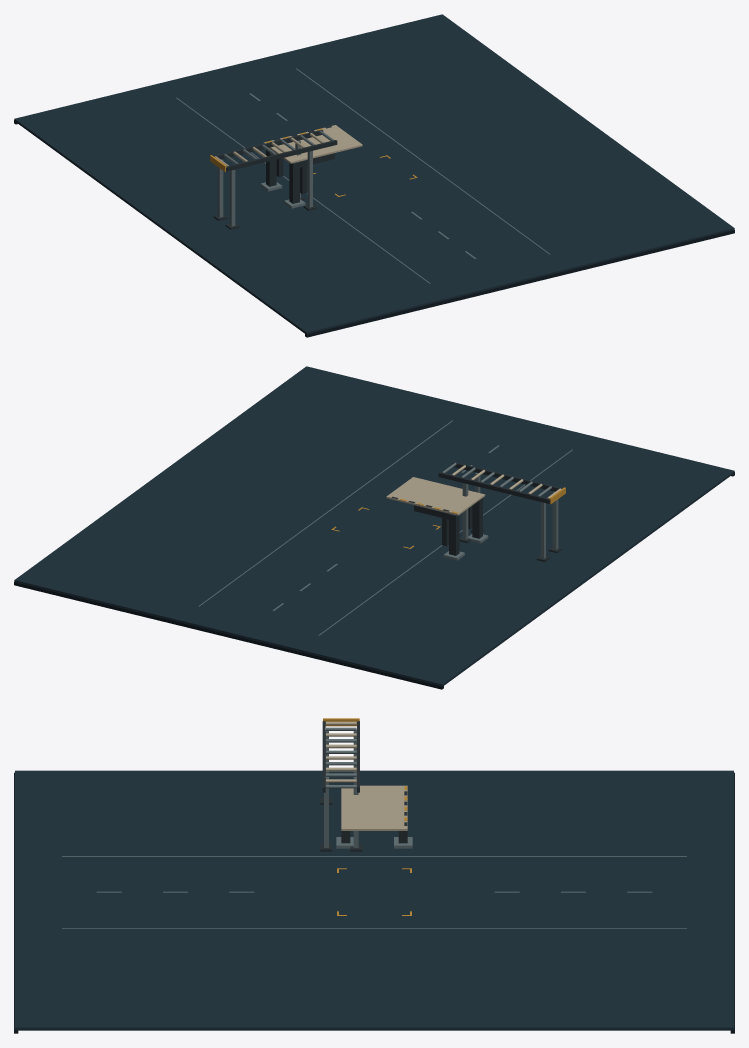
File: station_d0_lod2.glb
3 views of the same model, one above another, from view 1: azimuth 30°, elevation 25°; view 2: azimuth 150°, elevation 25°; view 3: azimuth 270°, elevation 25° (orthographic). The views are drawn at different scales.
Parts seen in each view (by area): view 1: STATION_SURFACE; view 2: STATION_SURFACE; view 3: STATION_SURFACE.
Part boxes in pixels (x1,y1,x2,y2): STATION_SURFACE: (14, 14, 734, 337); STATION_SURFACE: (14, 366, 734, 689); STATION_SURFACE: (14, 718, 734, 1033).
Bounding box in the file's own units: 11 × 1.69 × 13.04.
